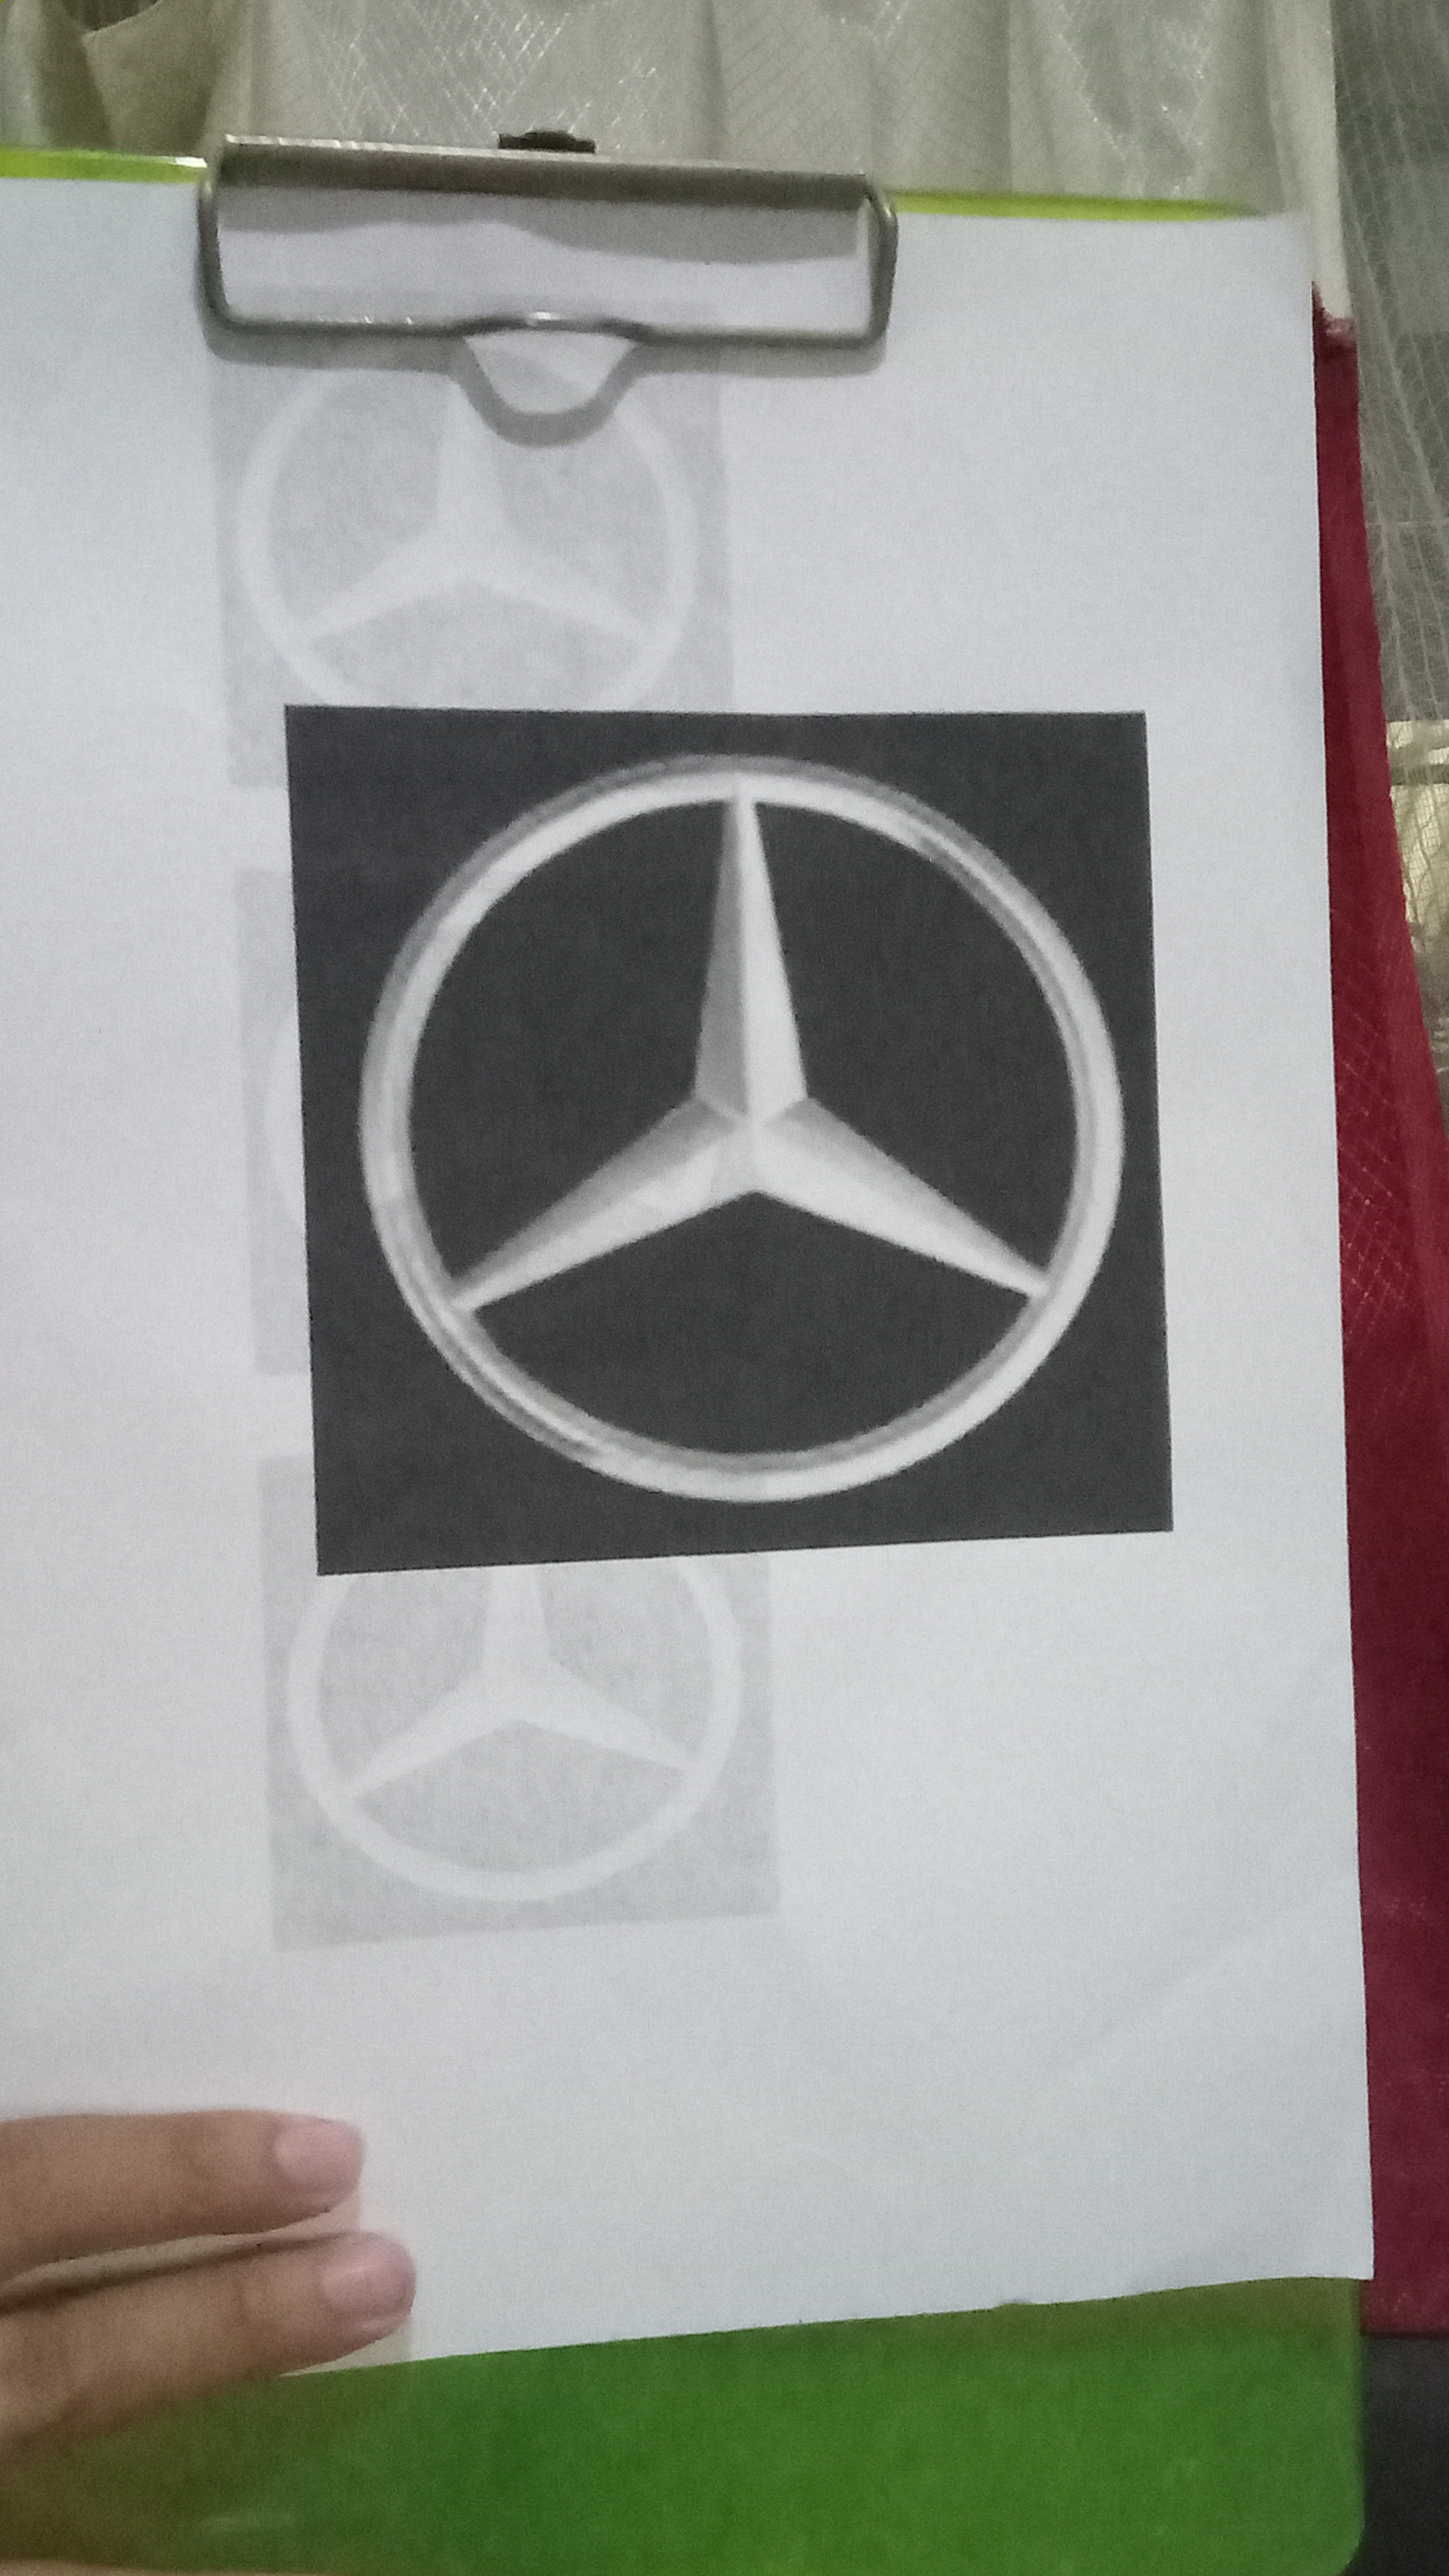Mercedes: (317, 734, 1159, 1539)
